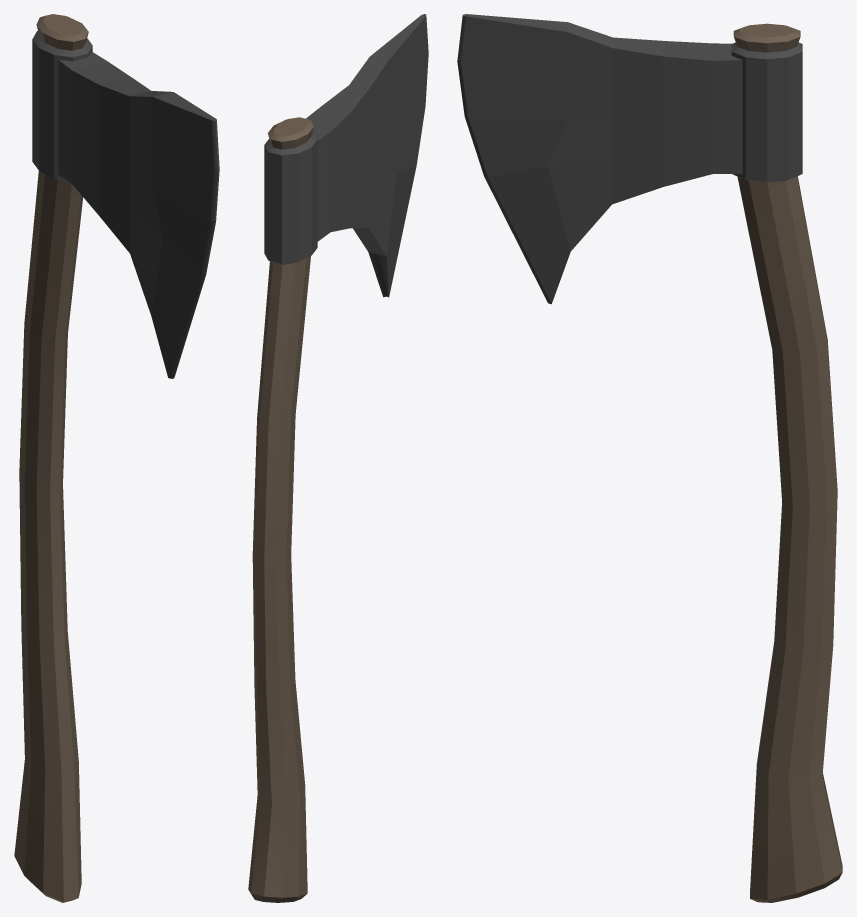
The model's file is Geo_Axe.fbx.
The picture shows the model from 3 angles, left to right: view 1: azimuth 30°, elevation 25°; view 2: azimuth 150°, elevation 25°; view 3: azimuth 270°, elevation 25°; orthographic projection. The views are drawn at different scales.
Parts seen in each view (by area): view 1: pCylinder18; view 2: pCylinder18; view 3: pCylinder18.
Boxes of the visible parts, x1,y1,x2,y2 form: pCylinder18: (14, 14, 219, 902); pCylinder18: (248, 14, 428, 902); pCylinder18: (457, 14, 842, 902).
Bounding box in the file's own units: 4.17 × 74.22 × 29.28.
